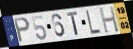5: (31, 15, 48, 41)
6: (51, 13, 66, 38)
H: (98, 5, 121, 34)
L: (85, 9, 102, 35)
P: (13, 16, 31, 44)
T: (66, 10, 80, 36)
